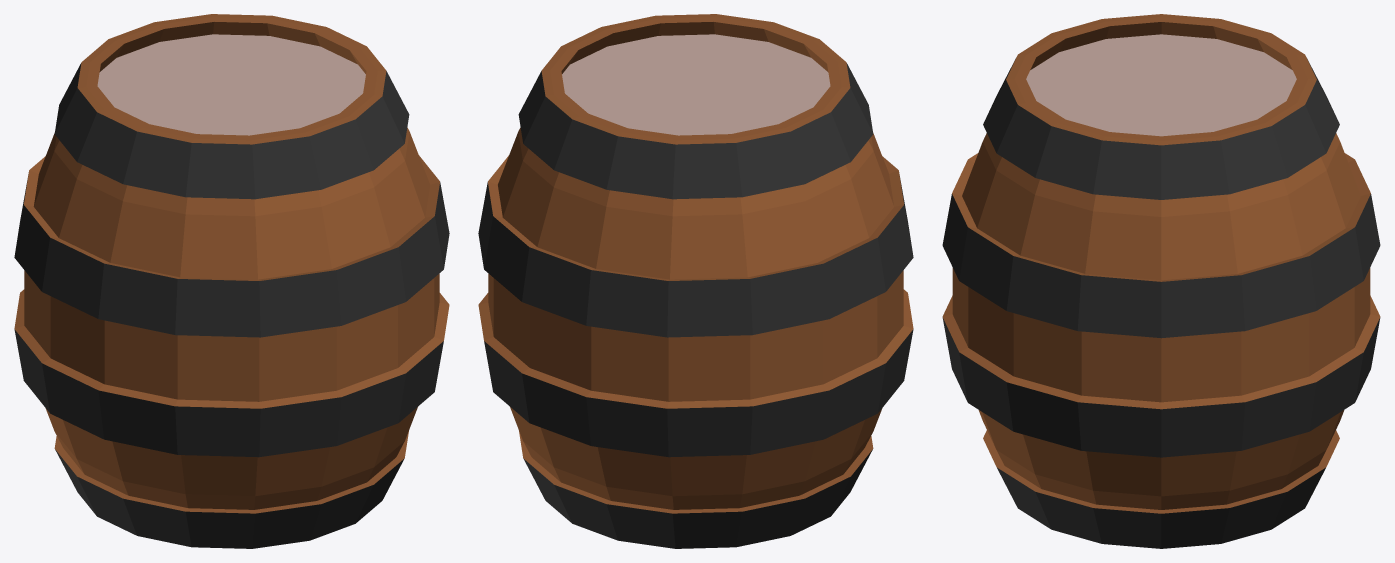
File: Barrel.gltf
3 renders of one model, left to right at view 1: azimuth 30°, elevation 25°; view 2: azimuth 150°, elevation 25°; view 3: azimuth 270°, elevation 25°, orthographic.
Visible parts, largest first — view 1: node-0; view 2: node-0; view 3: node-0.
Boxes of the visible parts, x1,y1,x2,y2 form: node-0: [14, 14, 449, 548]; node-0: [478, 14, 913, 548]; node-0: [942, 14, 1380, 548].
Size of the model in its own units: 336200 by 342300 by 336200.
